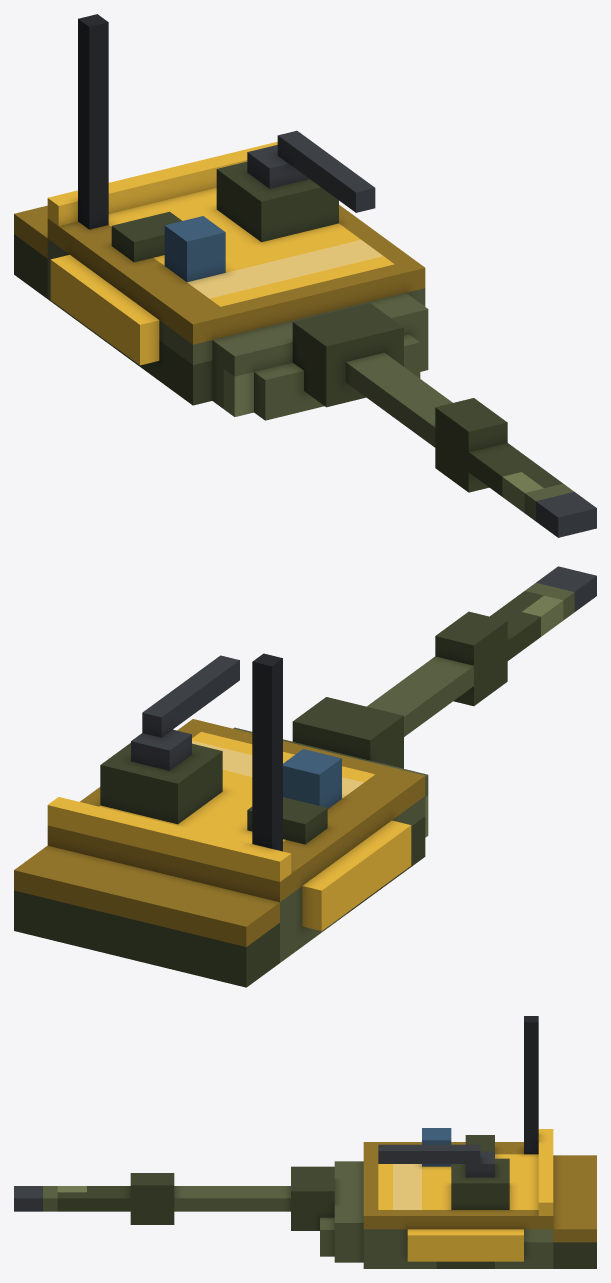
File: cm_tank_g_2.glb
3 views of the same model, one above another, from view 1: azimuth 30°, elevation 25°; view 2: azimuth 150°, elevation 25°; view 3: azimuth 270°, elevation 25° (orthographic). The views are drawn at different scales.
Parts seen in each view (by area): view 1: cm_tank_g_2_body; view 2: cm_tank_g_2_body; view 3: cm_tank_g_2_body.
Boxes of the visible parts, x1,y1,x2,y2 form: cm_tank_g_2_body: (14, 14, 596, 537); cm_tank_g_2_body: (14, 566, 596, 987); cm_tank_g_2_body: (14, 1016, 596, 1268).
Bounding box in the file's own units: 0.875 × 0.875 × 2.5.
Materials: 1 (1 with a texture image).
